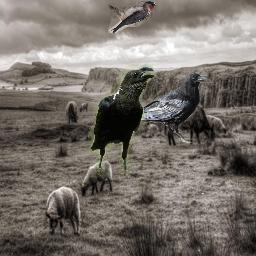Crow: (88, 64, 158, 178), (119, 71, 211, 143)
Swallow: (108, 1, 158, 33)
